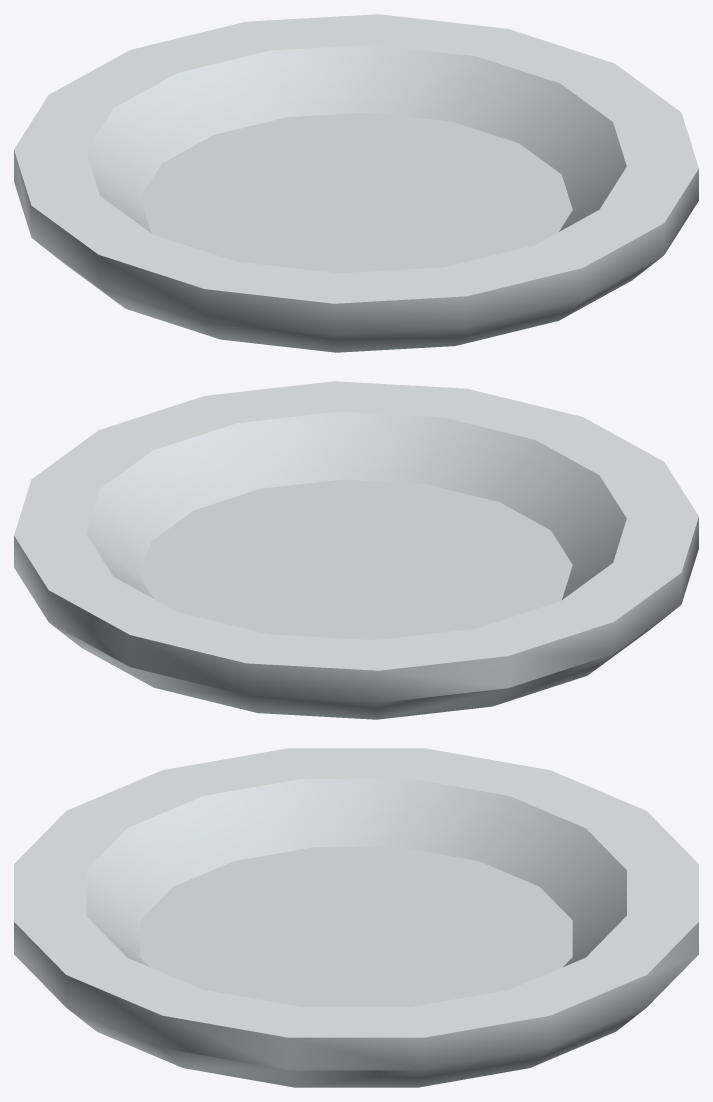
Rendered from plate.glb.
3 renders of one model, top to bottom at view 1: azimuth 30°, elevation 25°; view 2: azimuth 150°, elevation 25°; view 3: azimuth 270°, elevation 25°, orthographic.
Parts seen in each view (by area): view 1: plate; view 2: plate; view 3: plate.
Boxes of the visible parts, x1,y1,x2,y2 form: plate: [14, 14, 698, 352]; plate: [14, 381, 698, 719]; plate: [14, 748, 698, 1087].
Bounding box in the file's own units: 0.95 × 0.1 × 0.95.
Materials: 1 (1 with a texture image).
